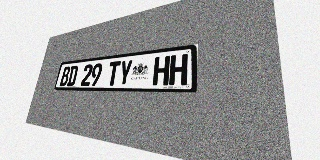2: (80, 64, 93, 86)
9: (89, 63, 103, 86)
B: (59, 66, 71, 86)
D: (67, 65, 79, 86)
H: (169, 54, 188, 85), (152, 55, 170, 85)
T: (106, 61, 121, 86)
Y: (118, 59, 133, 86)
